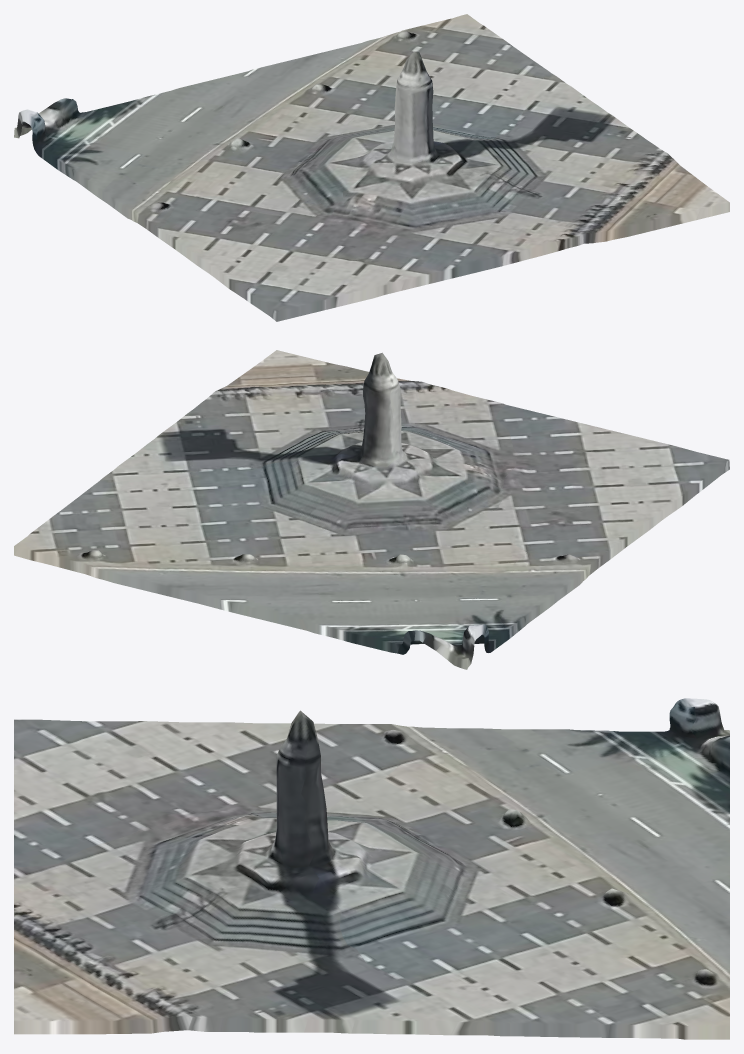
File: z20-167788-405221-h0-yup-uvflip-v3-world.glb
3 views of the same model, one above another, from view 1: azimuth 30°, elevation 25°; view 2: azimuth 150°, elevation 25°; view 3: azimuth 270°, elevation 25° (orthographic). The views are drawn at different scales.
Size of the model in its own units: 30.2 by 9.16 by 30.32.
1 material, 1 textured.
